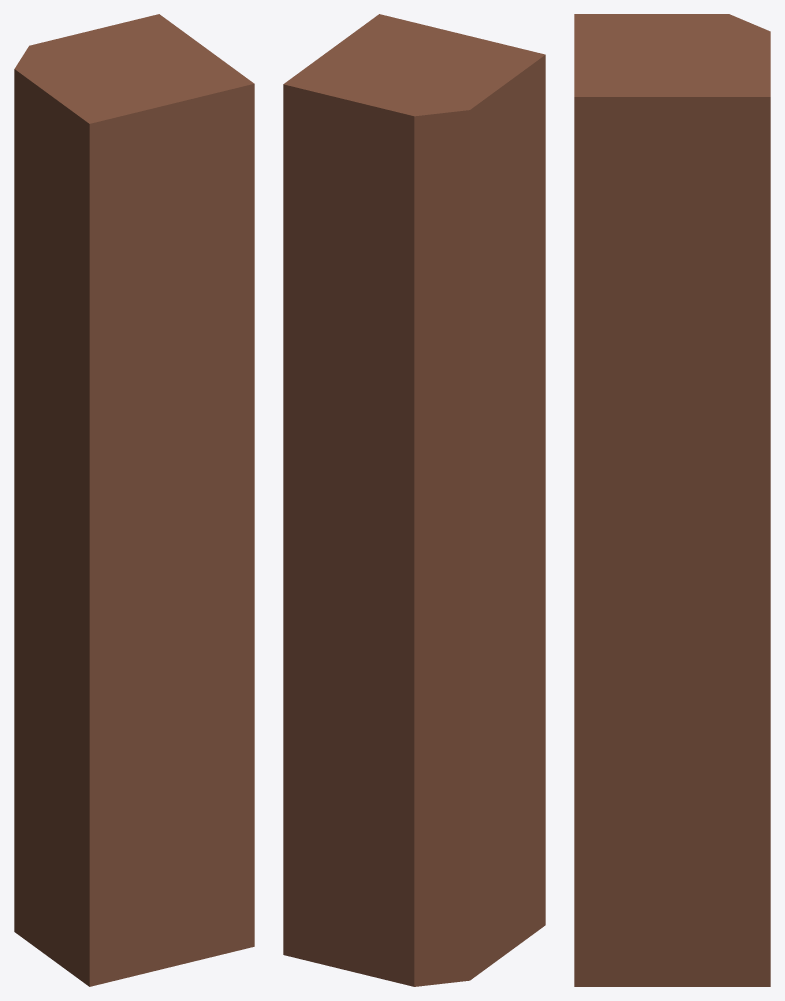
The model's file is Poutre.glb.
3 views of the same model, side by side, from view 1: azimuth 30°, elevation 25°; view 2: azimuth 150°, elevation 25°; view 3: azimuth 270°, elevation 25° (orthographic). The views are drawn at different scales.
Visible parts, largest first — view 1: Cube.002; view 2: Cube.002; view 3: Cube.002.
Part boxes in pixels (bbox=[...]): Cube.002: bbox=[14, 14, 254, 986]; Cube.002: bbox=[283, 14, 545, 986]; Cube.002: bbox=[574, 14, 770, 986].
Size of the model in its own units: 0.4 by 2 by 0.4.
